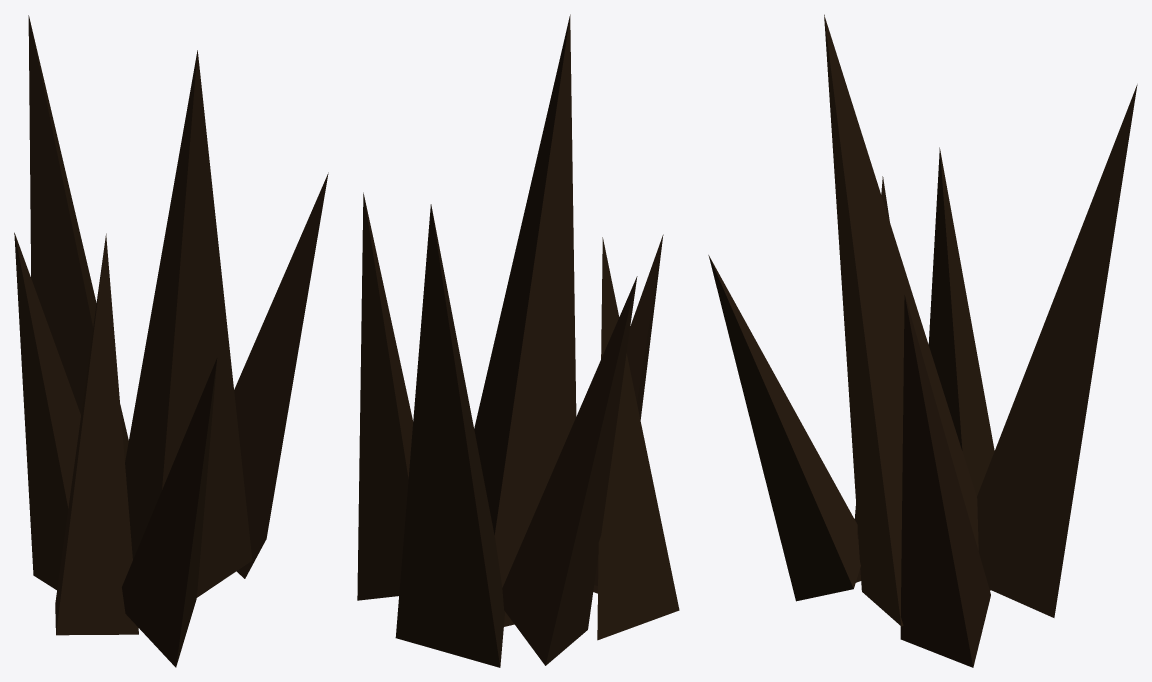
File: BurntGrass.fbx
3 views of the same model, side by side, from view 1: azimuth 30°, elevation 25°; view 2: azimuth 150°, elevation 25°; view 3: azimuth 270°, elevation 25° (orthographic). The views are drawn at different scales.
Parts seen in each view (by area): view 1: Cone; view 2: Cone; view 3: Cone.
Part boxes in pixels (bbox=[...]): Cone: bbox=[14, 15, 328, 667]; Cone: bbox=[357, 14, 679, 667]; Cone: bbox=[708, 14, 1137, 667].
Size of the model in its own units: 240 by 462 by 297.
